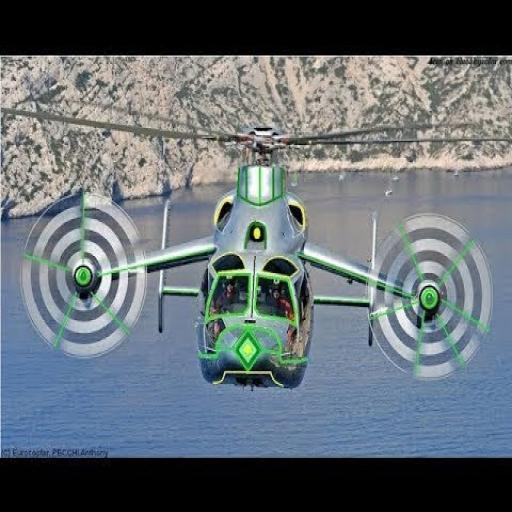helicopter: (14, 93, 502, 415)
